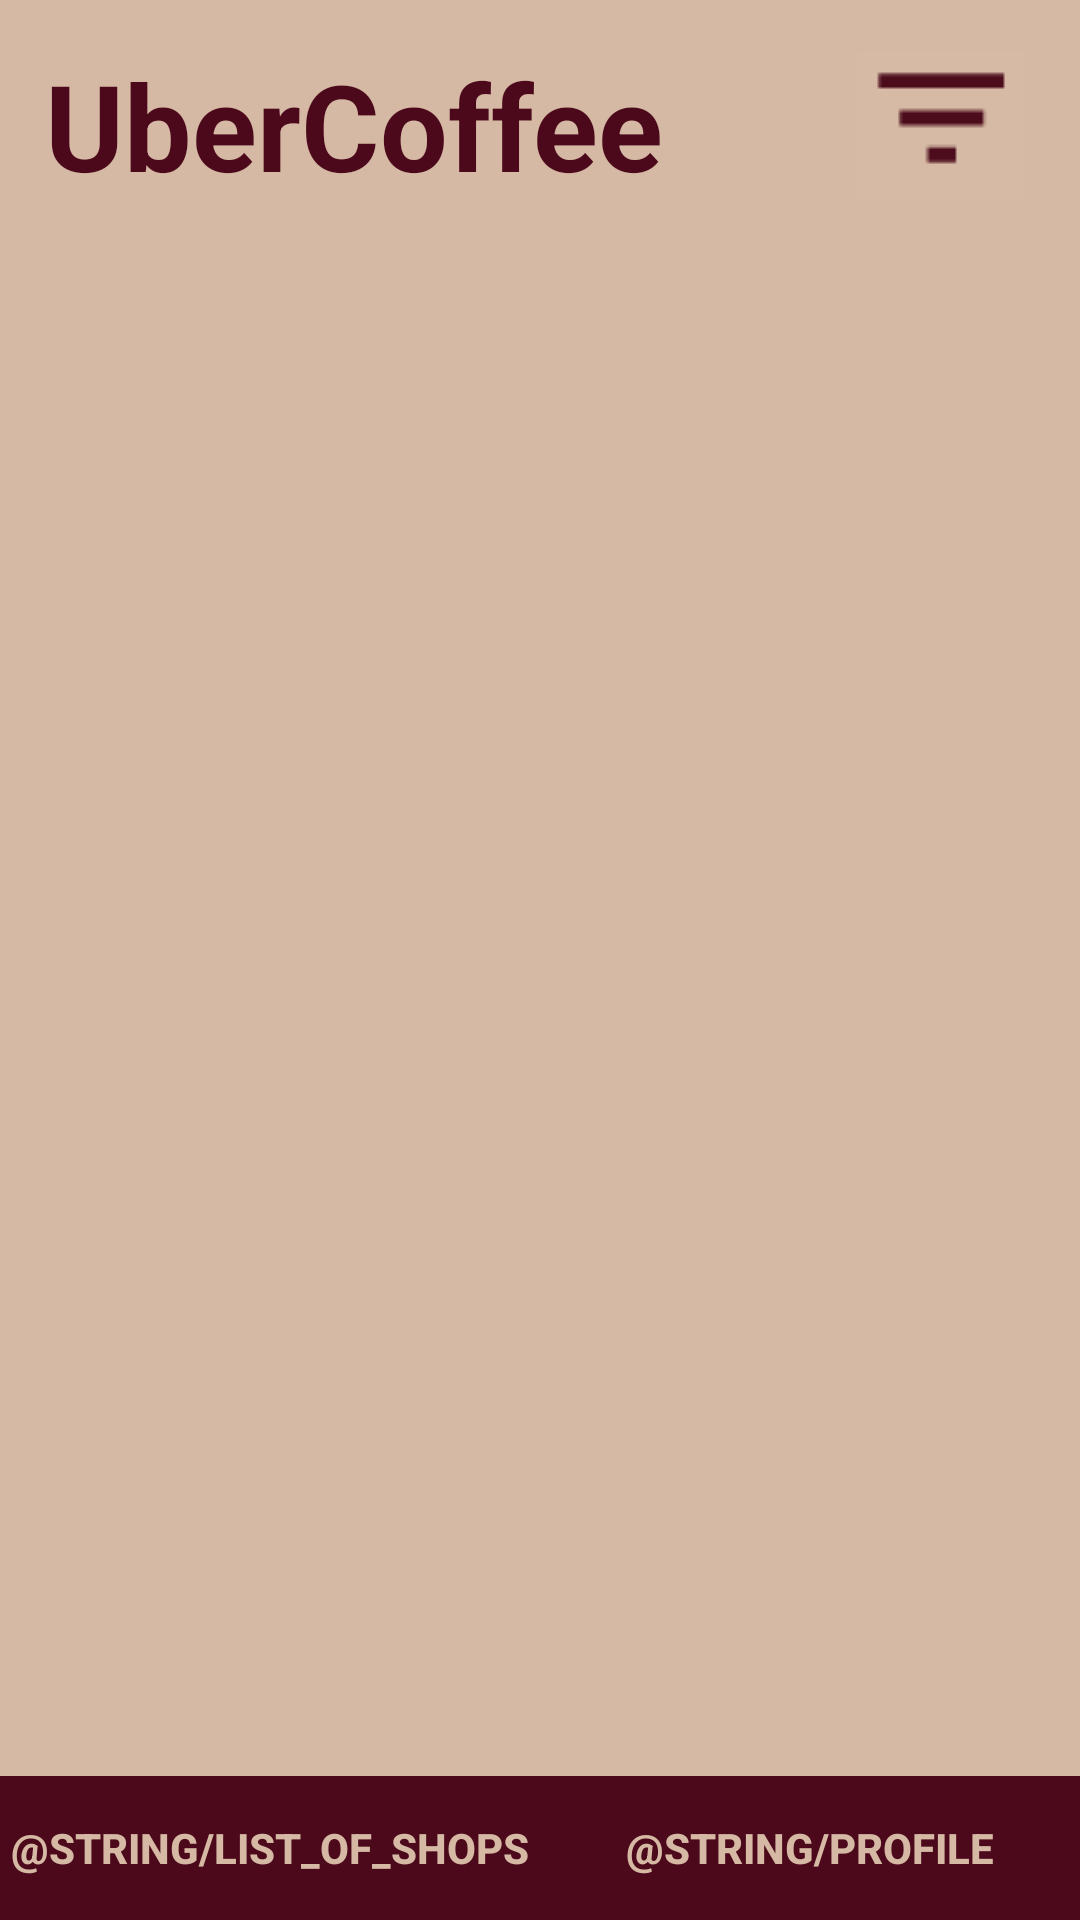

Where to tap for icons on this 1080px×1920px app screen, as (x=x, y=y):
filter: (x=941, y=118)
